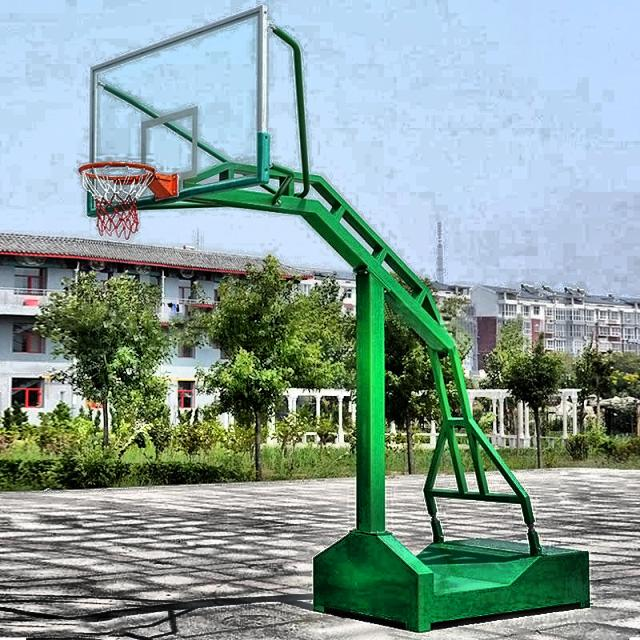rim: (77, 162, 154, 239)
